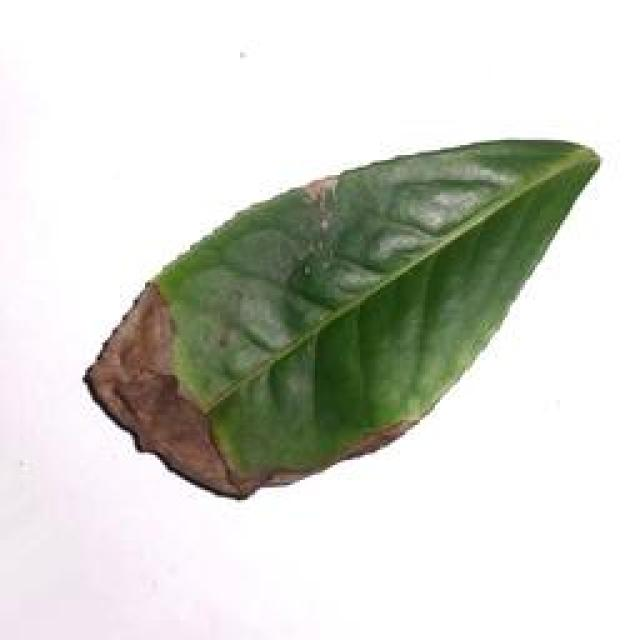Brown Blight: (81, 116, 605, 505)
